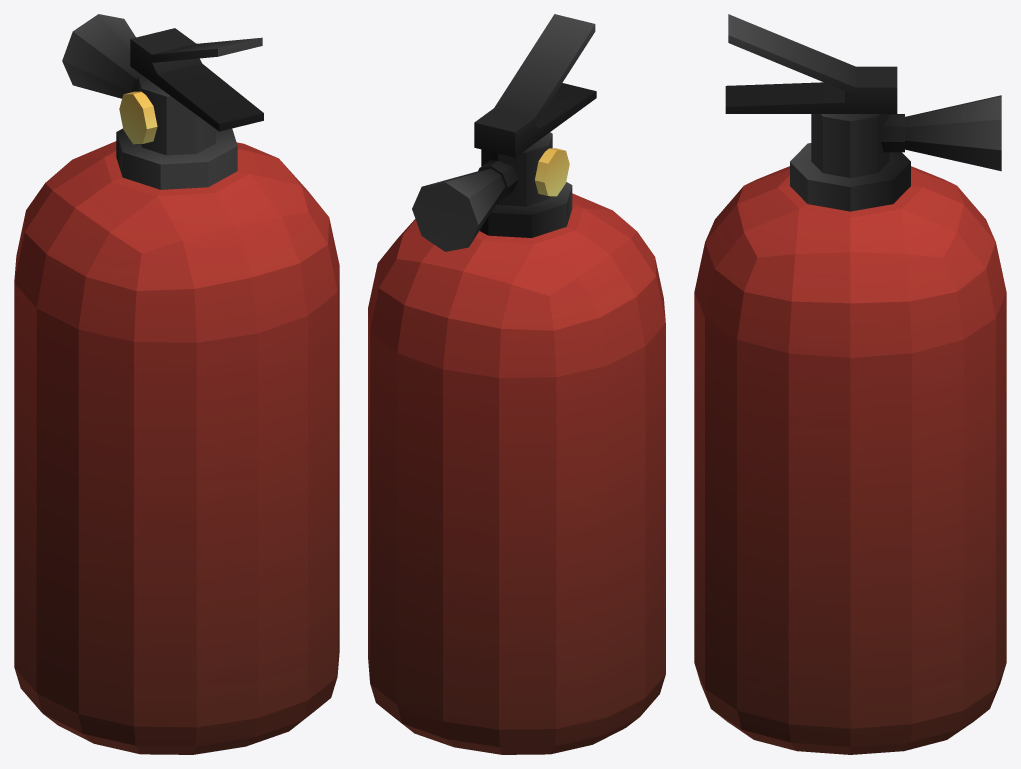
The model's file is fire_extinguisher.fbx.
The picture shows the model from 3 angles, left to right: view 1: azimuth 30°, elevation 25°; view 2: azimuth 150°, elevation 25°; view 3: azimuth 270°, elevation 25°; orthographic projection. The views are drawn at different scales.
Visible parts, largest first — view 1: Cube, Plane, Cylinder.001, Cylinder; view 2: Cube, Plane, Cylinder.001, Cylinder; view 3: Cube, Plane, Cylinder.001.
Boxes of the visible parts, bbox=[...] form: Cube: bbox=[14, 74, 339, 754]; Plane: bbox=[130, 28, 263, 131]; Cylinder.001: bbox=[62, 14, 140, 98]; Cylinder: bbox=[119, 91, 157, 144]; Cube: bbox=[368, 132, 665, 754]; Plane: bbox=[474, 14, 596, 157]; Cylinder.001: bbox=[412, 160, 519, 251]; Cylinder: bbox=[535, 148, 569, 196]; Cube: bbox=[694, 114, 1006, 754]; Plane: bbox=[725, 14, 897, 113]; Cylinder.001: bbox=[881, 95, 1001, 171].
Size of the model in its own units: 23.86 by 57.37 by 23.86.
